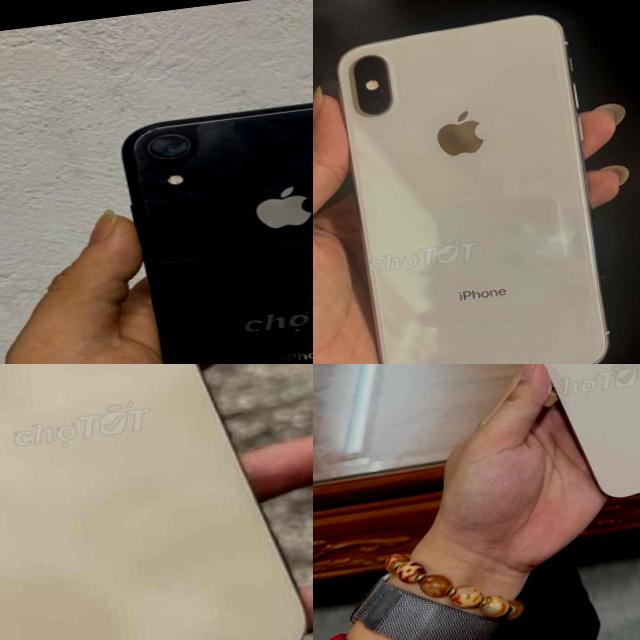gen_16: (0, 364, 313, 640), (543, 364, 640, 496)
gen_x_xs: (313, 3, 621, 364), (113, 86, 313, 364)
